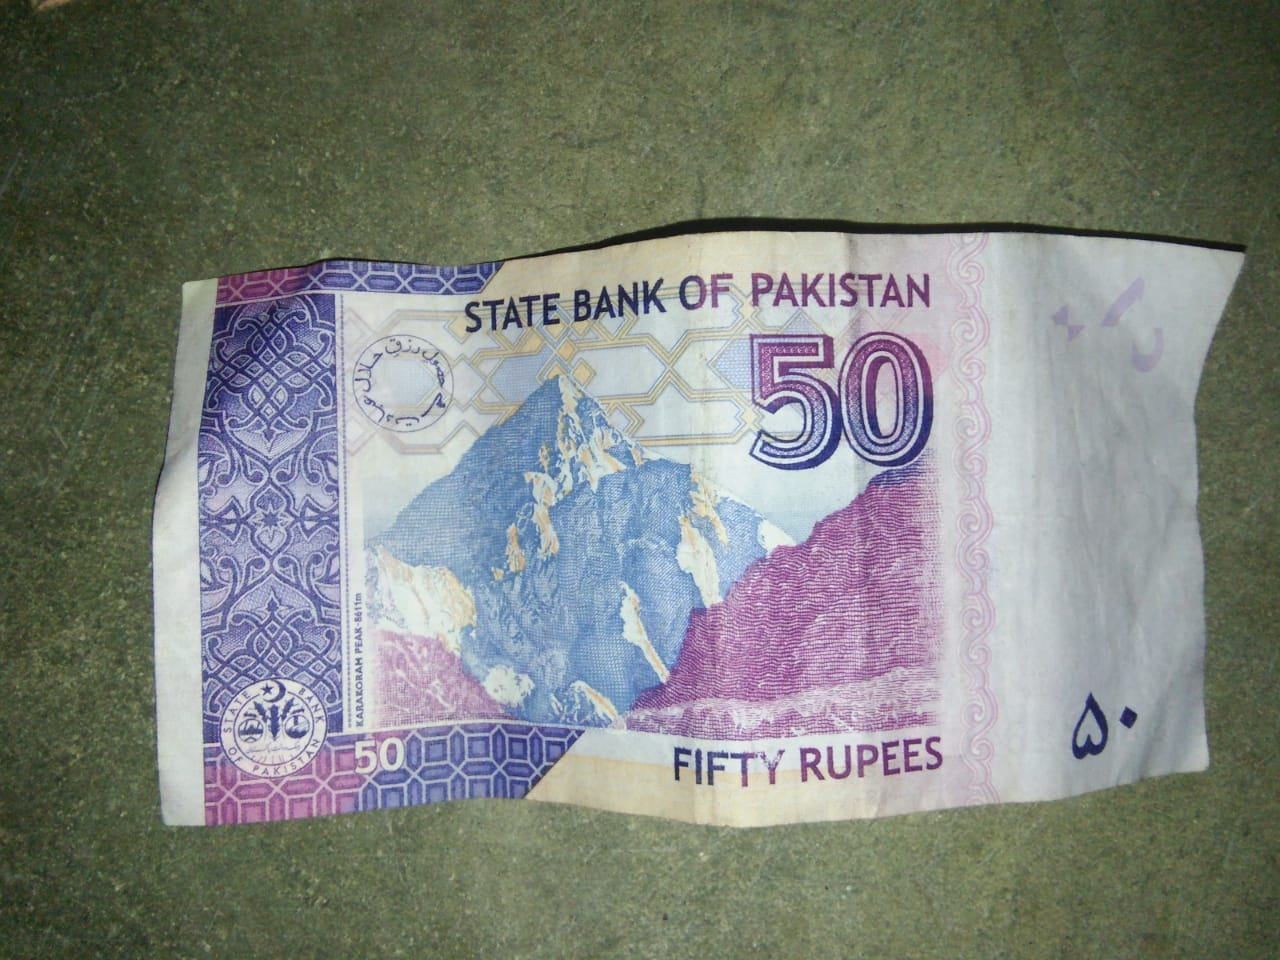50 rupee: (131, 227, 1241, 856)
